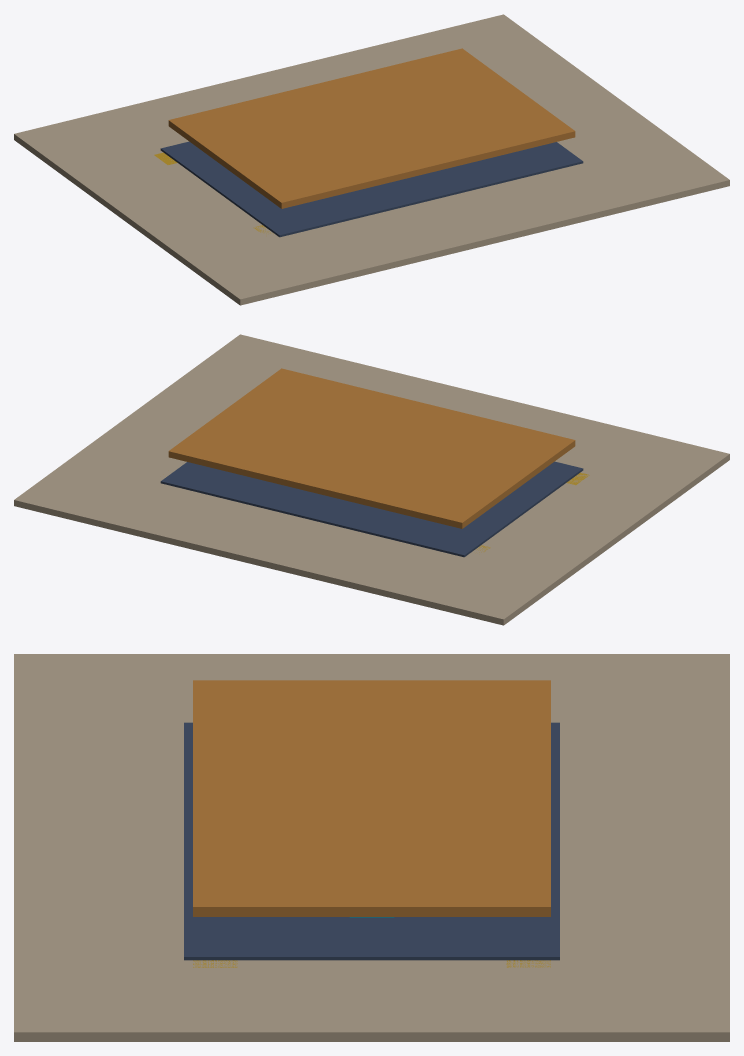
File: stage_03_structural_frame.glb
3 renders of one model, top to bottom at view 1: azimuth 30°, elevation 25°; view 2: azimuth 150°, elevation 25°; view 3: azimuth 270°, elevation 25°, orthographic. The views are drawn at different scales.
Parts seen in each view (by area): view 1: world; view 2: world; view 3: world.
Boxes of the visible parts, box(x1,y1,x2,y2) form: world: box(14, 14, 729, 305); world: box(14, 334, 729, 625); world: box(14, 654, 729, 1041).
Bounding box in the file's own units: 10 × 1.41 × 8.
